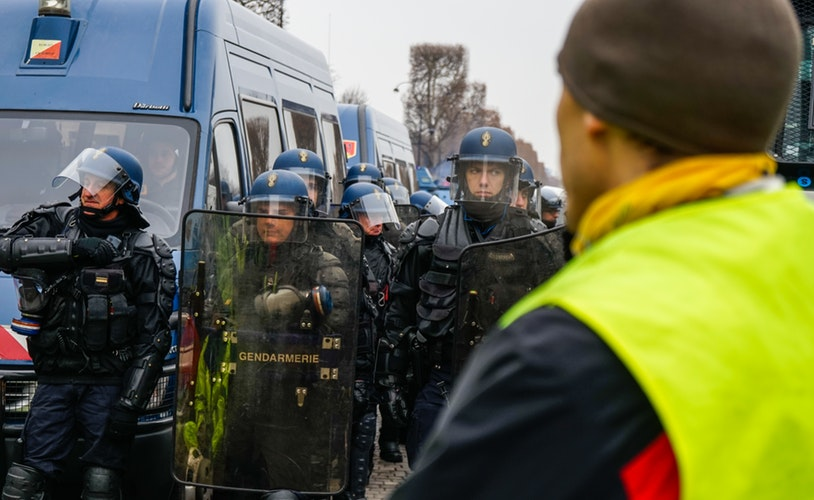helmet: (71, 145, 147, 190), (261, 144, 333, 187), (244, 169, 313, 209), (459, 121, 520, 166)
